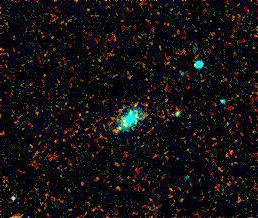star: (105, 112, 135, 142)
